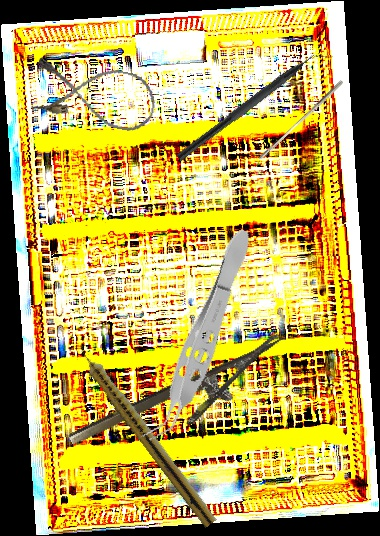Cannula: (28, 53, 161, 136)
Chopper: (176, 41, 334, 172)
Handpiece: (71, 339, 221, 529)
Needle Holder: (66, 333, 298, 474)
Pusher: (257, 76, 345, 164)
Tissue Forceps: (140, 223, 262, 451)
